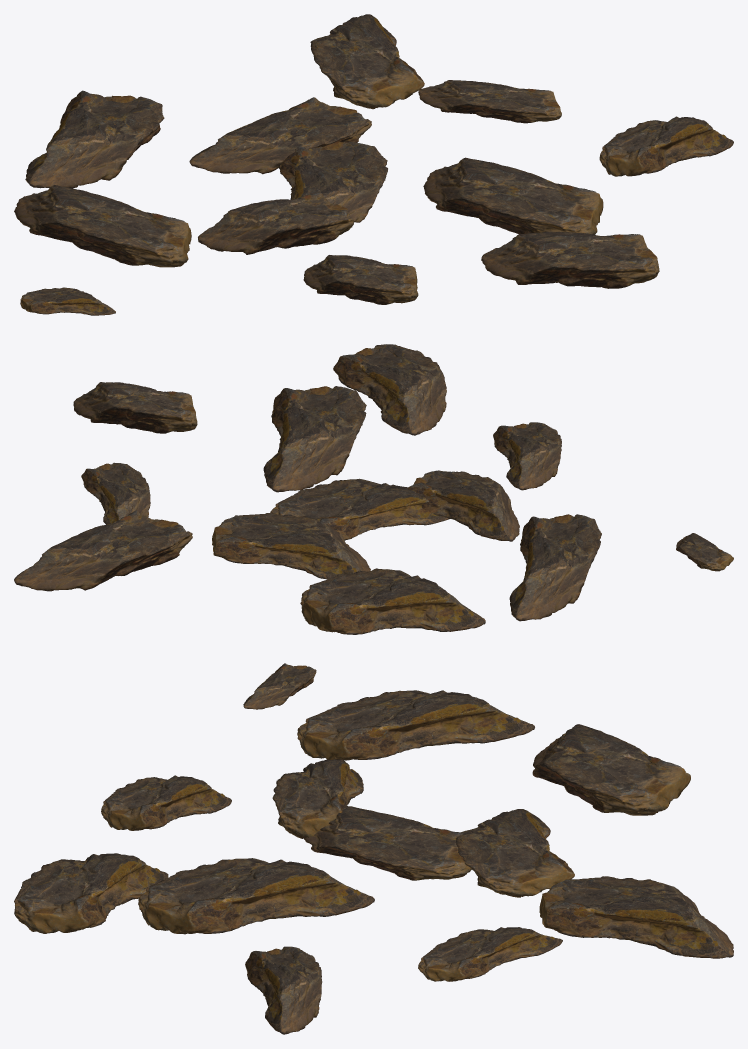
Rendered from PebbleCluster.glb.
3 renders of one model, top to bottom at view 1: azimuth 30°, elevation 25°; view 2: azimuth 150°, elevation 25°; view 3: azimuth 270°, elevation 25°, orthographic. The views are drawn at different scales.
Parts seen in each view (by area): view 1: WoodlandRock (×12); view 2: WoodlandRock (×12); view 3: WoodlandRock (×12).
Boxes of the visible parts, box(x1,y1,x2,y2) form: WoodlandRock (×12): box(14, 14, 733, 315); WoodlandRock (×12): box(14, 344, 733, 634); WoodlandRock (×12): box(14, 663, 733, 1034).
Size of the model in its own units: 0.46 by 0.0249 by 0.3871.
Materials: 1 (1 with a texture image).
